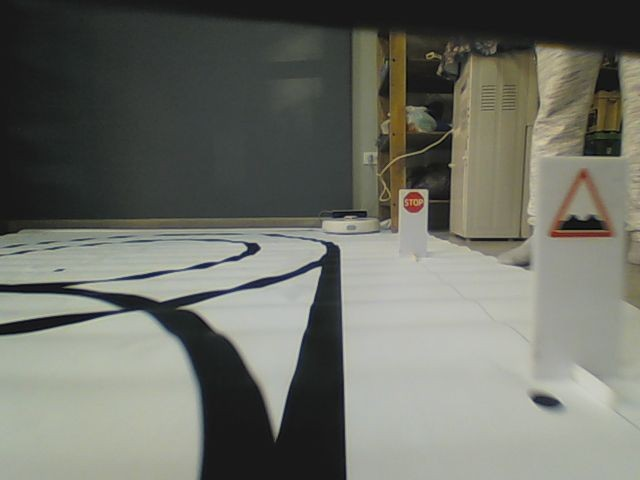Nerov: (546, 168, 616, 241)
Stop: (402, 190, 425, 214)
